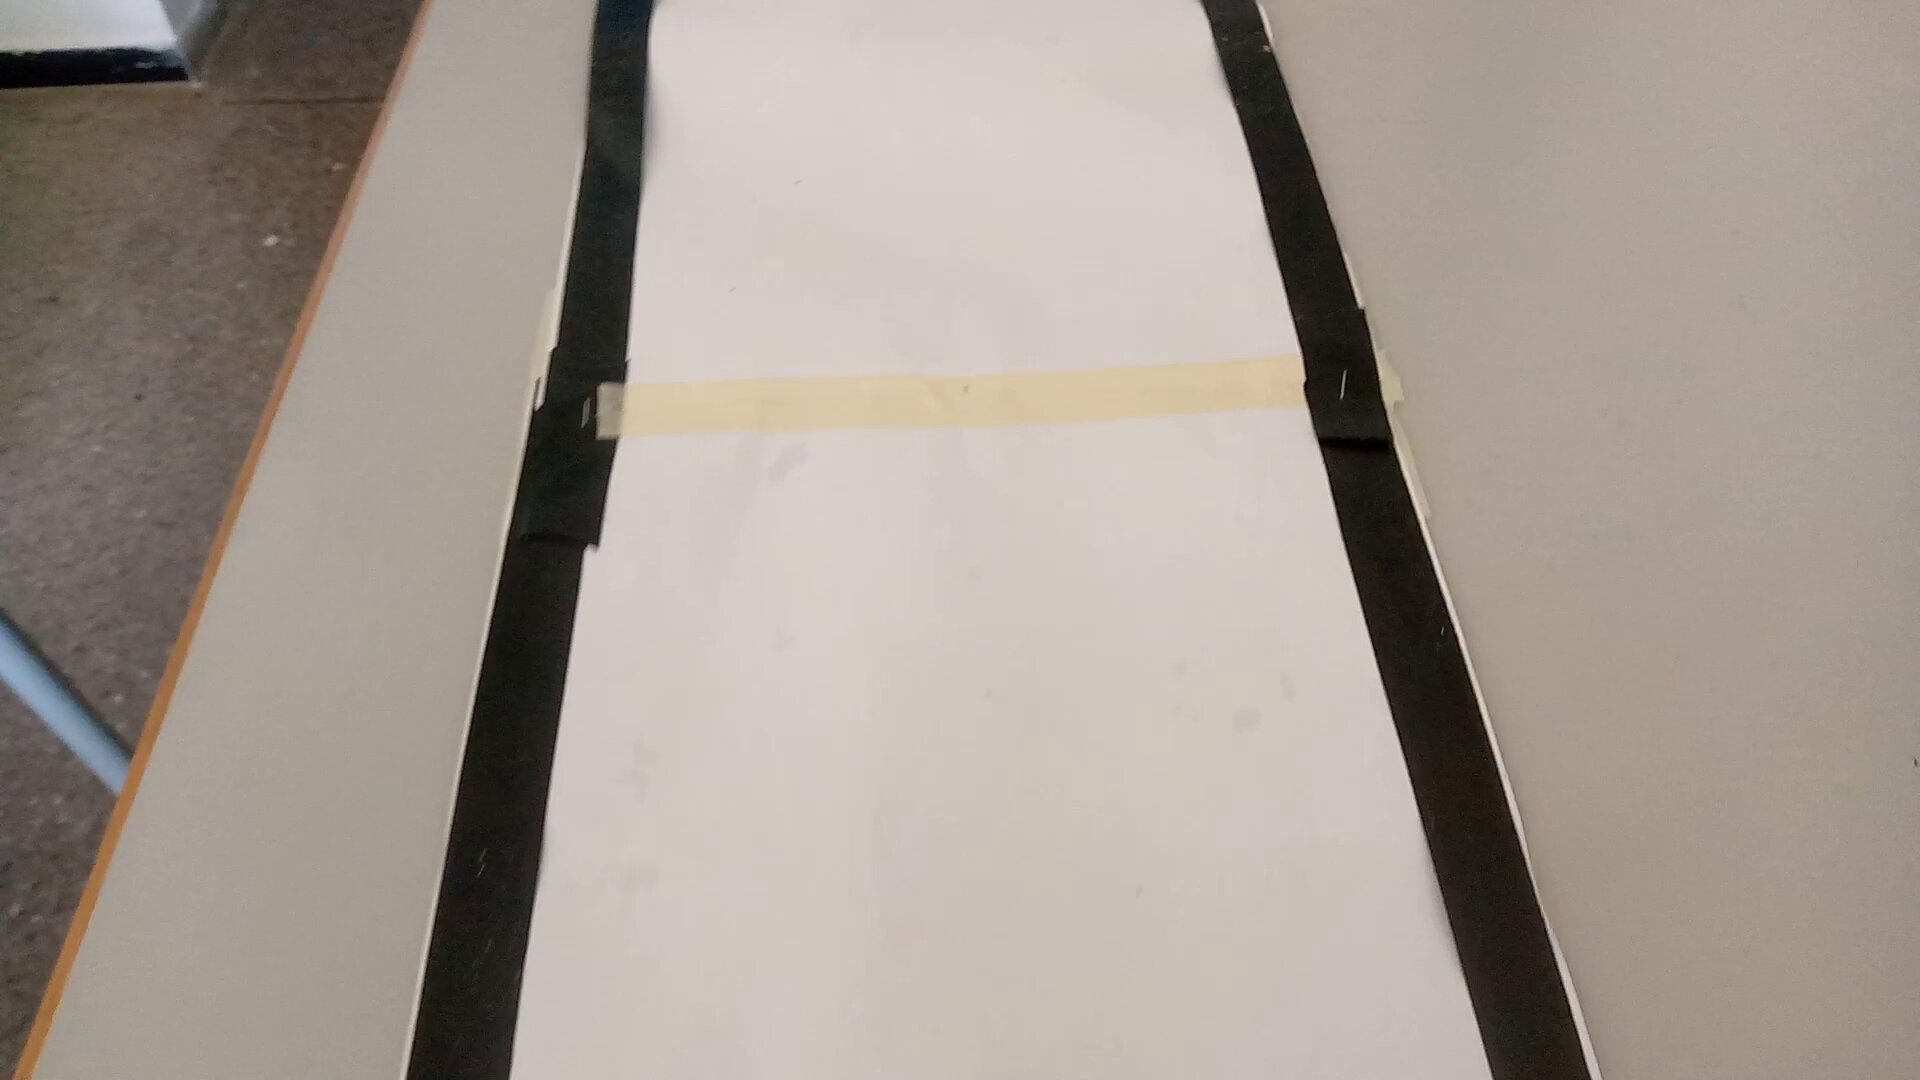forward: (375, 624, 1640, 1050)
right: (464, 222, 1519, 516)
